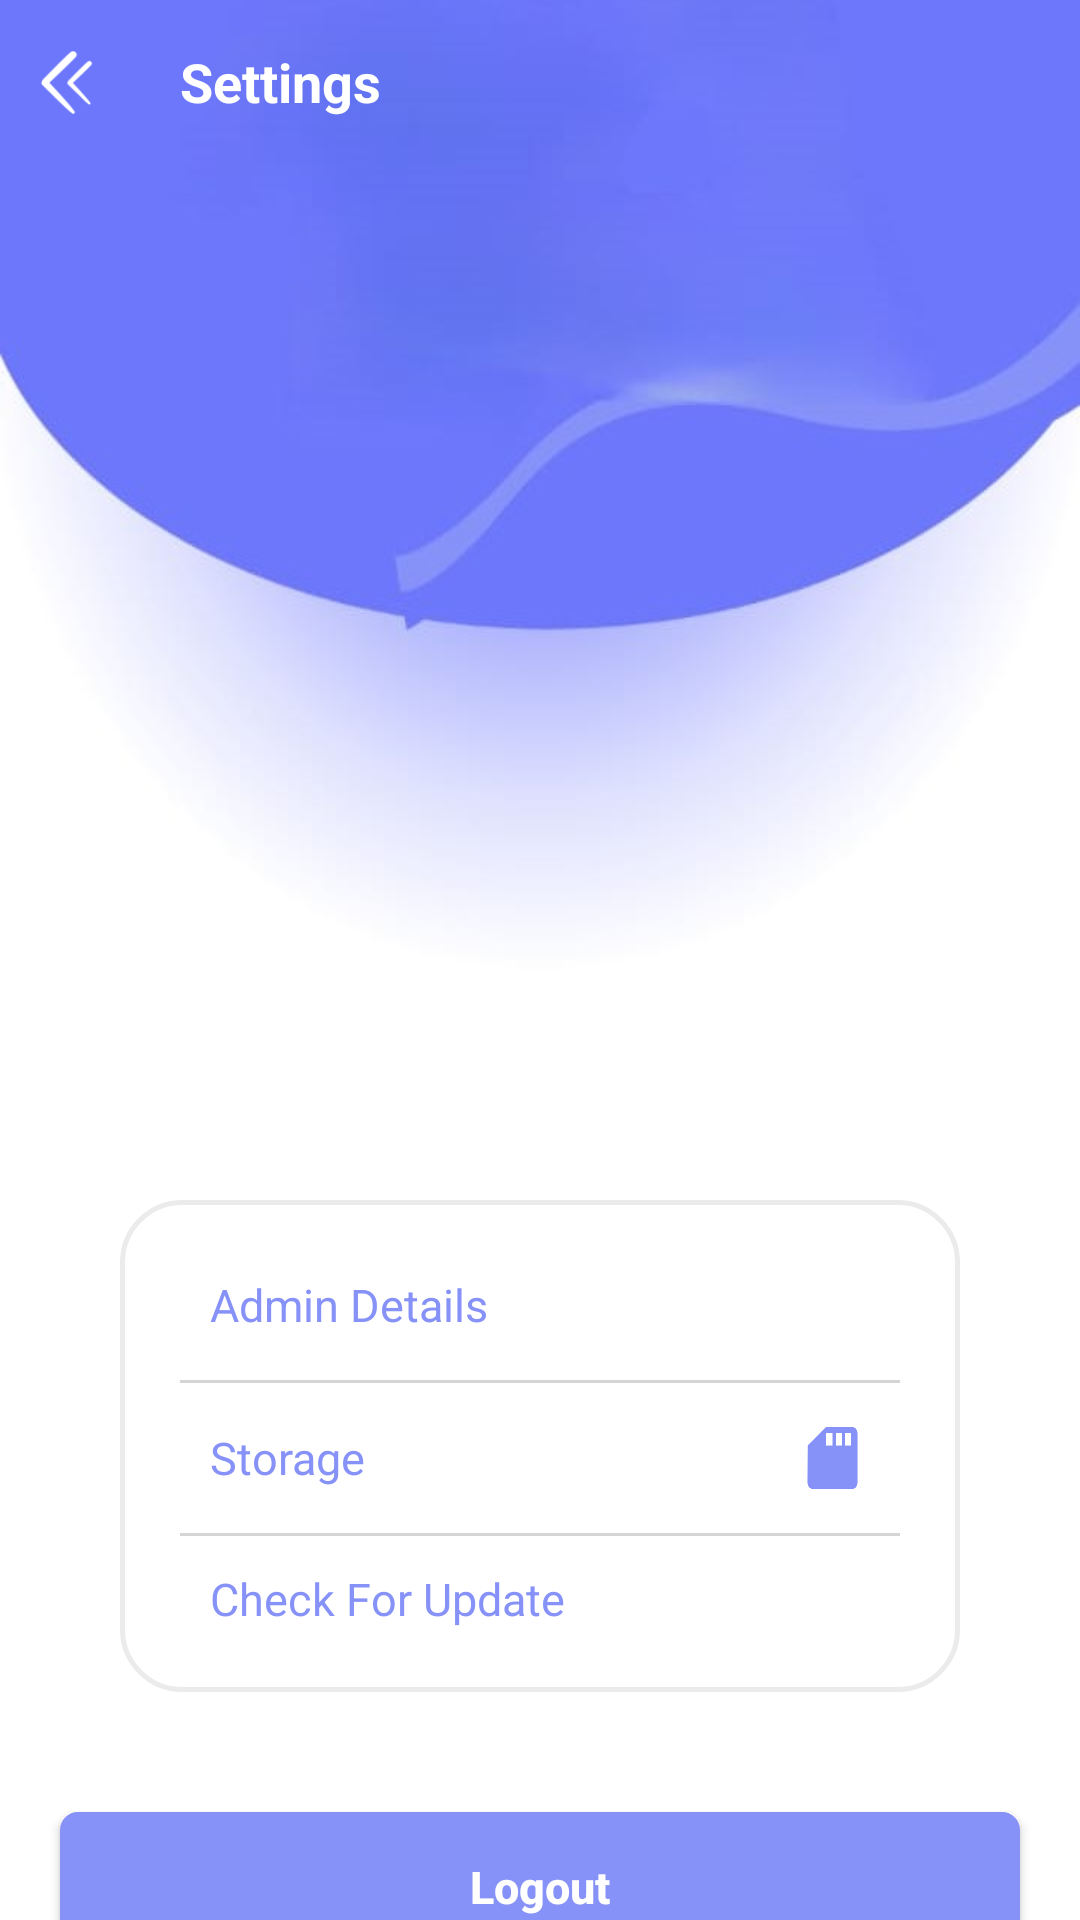

Where icons sit on this 1080*1920 app screen, as box(x1, y1, x2, y2):
back: box(41, 51, 92, 114)
storage: box(807, 1427, 858, 1489)
